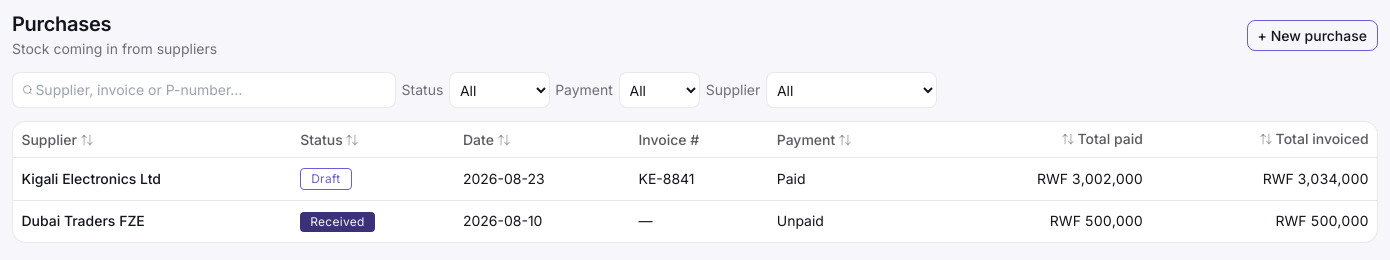
it: PurchasesPageClient › filters by status
Select "Received" in the dropdown labelled "Status" at (499, 90), box [449,72,550,108]
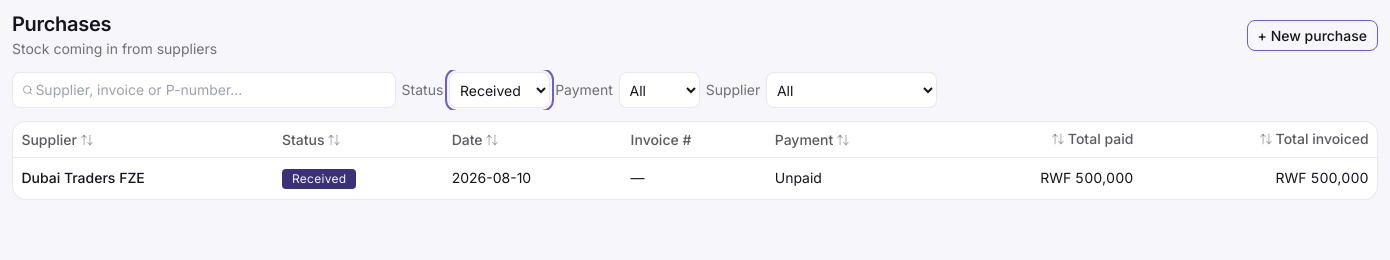
Expected: the link "Dubai Traders FZE" is shown, [21,169,145,186]
Now the link "Kigali Electronics Ltd" is gone
